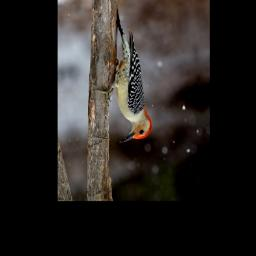Woodpecker: (86, 7, 153, 147)
